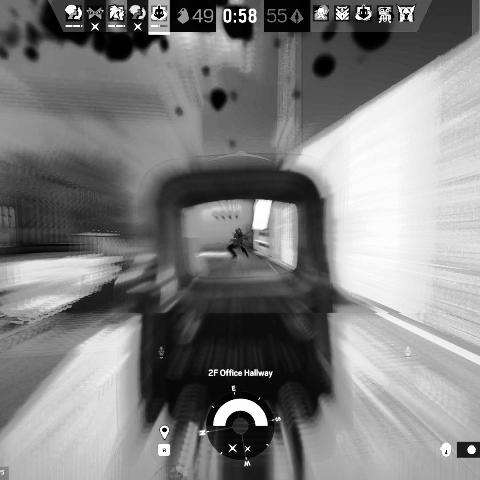Character: (226, 227, 249, 260)
Head: (236, 228, 241, 234)
